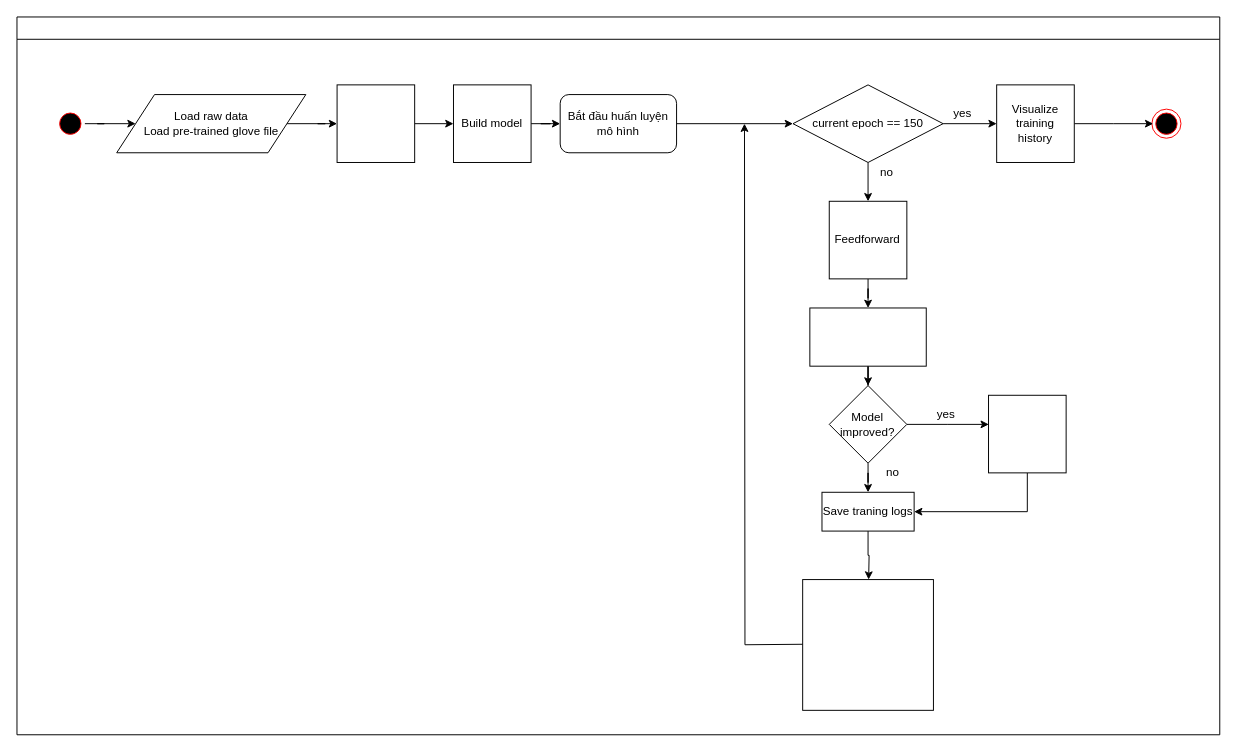
The diagram is 1237 pixels wide and 752 high, and some of its shapes have lost their labels. Each missing label, with the centre of its shape:
Backpropagation through time and update weights: the point at 867,644
Compute loss function: the point at 867,336
Preprocess data: the point at 375,123
Save model checkpoint: the point at 1027,433
